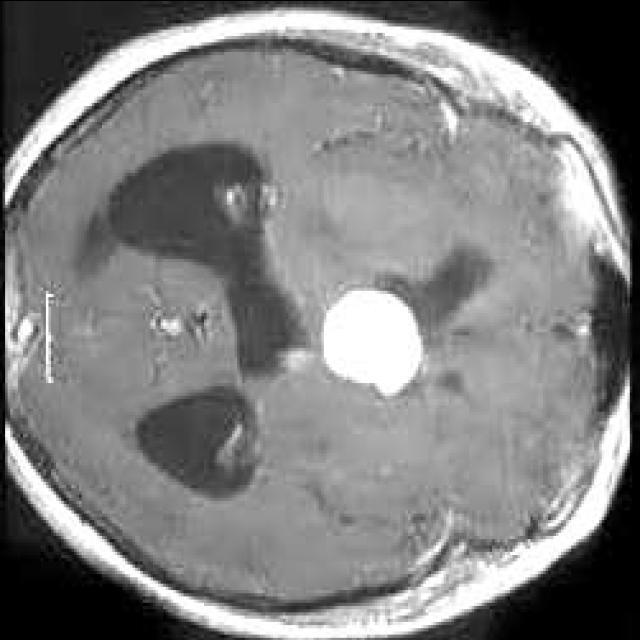tumor: (321, 287, 426, 398)
